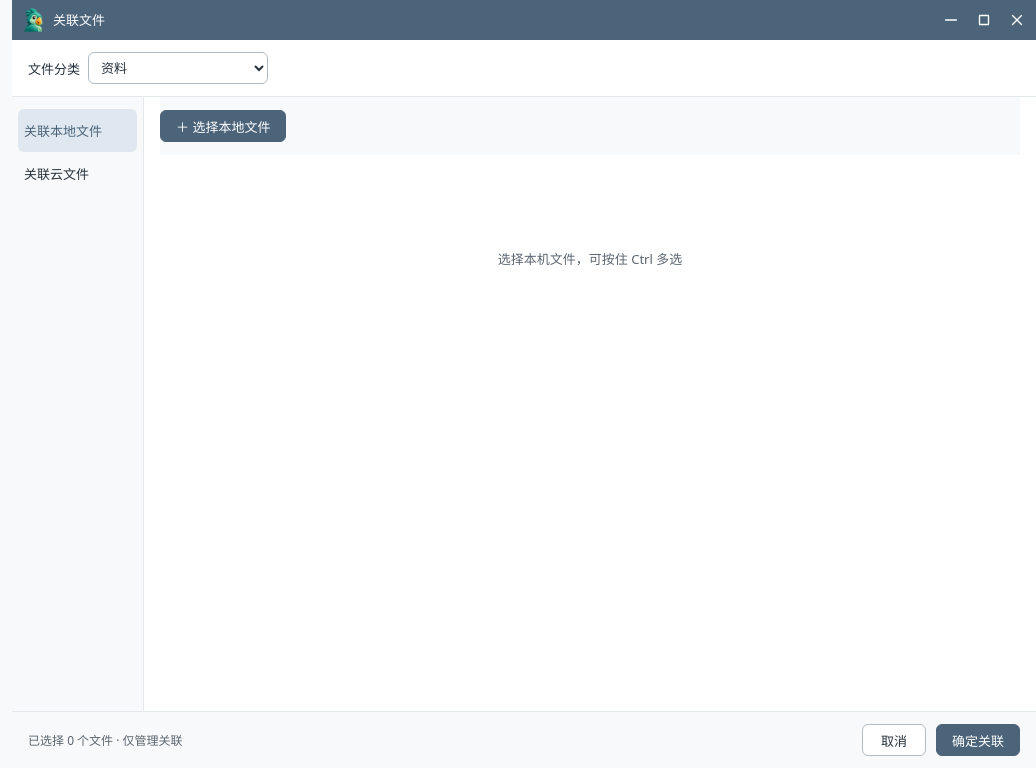
Test case: 云端关联直接提交身份，失败保留选择及分类，不生成话术
The image size is (1036, 768).
Click the button "关联云文件" at (78, 174), box [18,152,137,195]
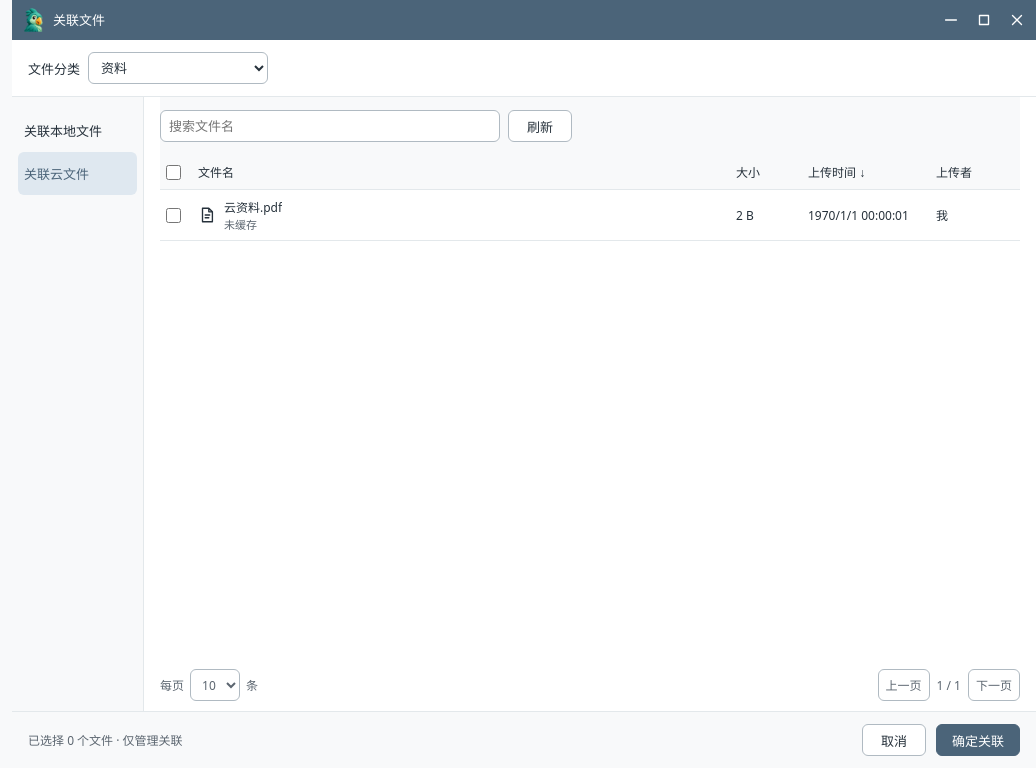
Result: the text "云资料.pdf" is shown at [224,199,282,216]
Click the checkbox named "选择 云资料.pdf" at (174, 215), box [166,208,181,222]
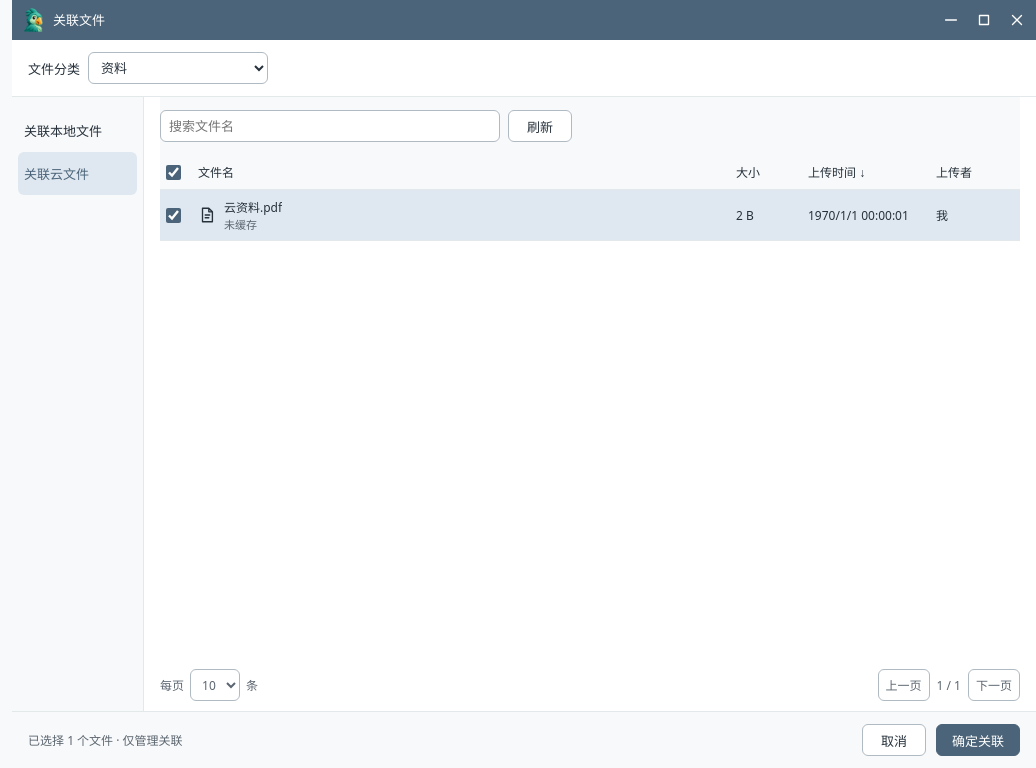
Click the button "确定关联" at (978, 740), box [936,724,1020,756]
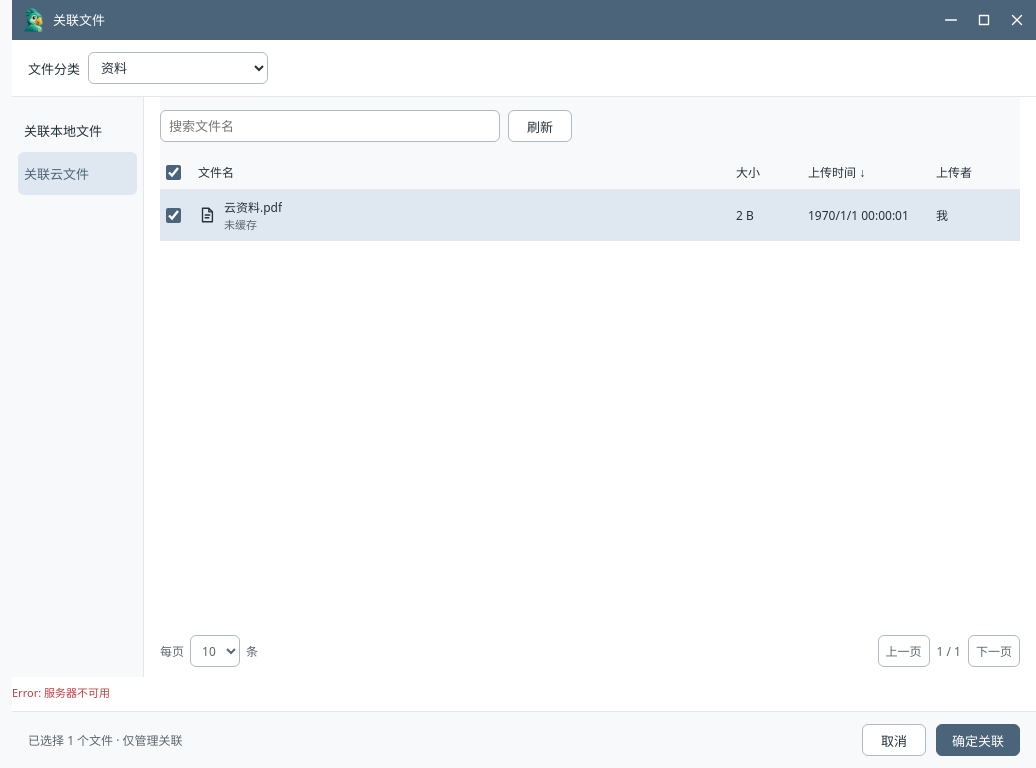
Result: the checkbox named "选择 云资料.pdf" is checked at [166,208,181,222]
Result: the text "Error: 服务器不可用" is shown at [12,685,110,700]
